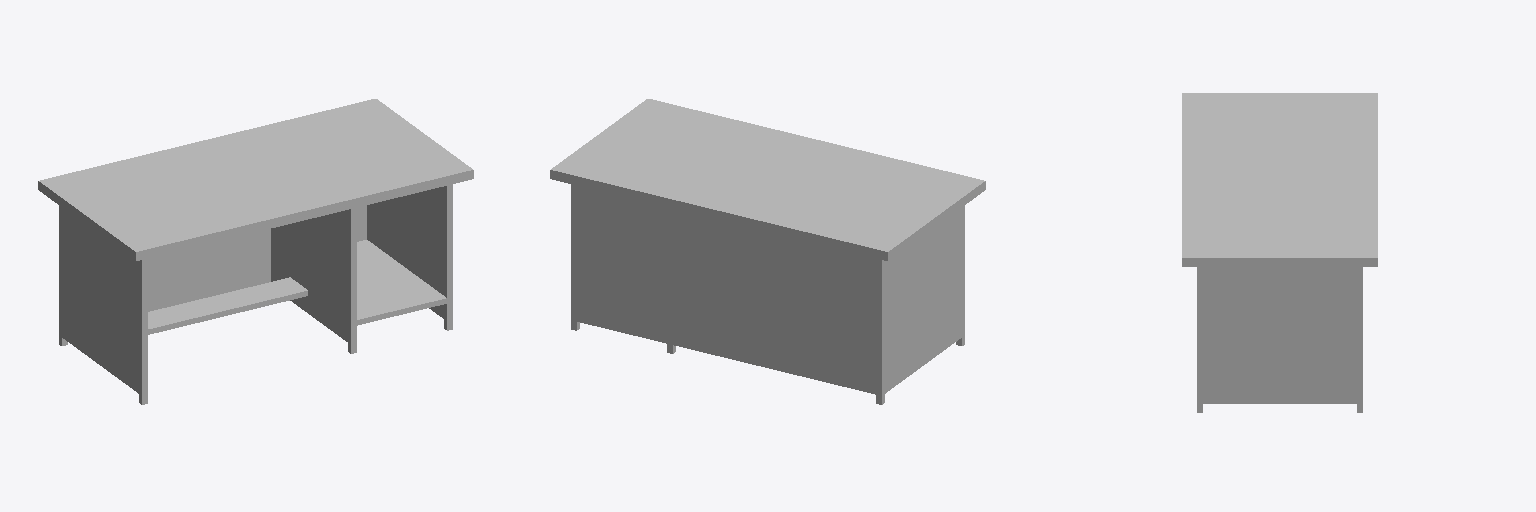
File: floor_3.obj
3 views of the same model, side by side, from view 1: azimuth 30°, elevation 25°; view 2: azimuth 150°, elevation 25°; view 3: azimuth 270°, elevation 25° (orthographic).
Bounding box in the file's own units: 6 × 2.74 × 3.